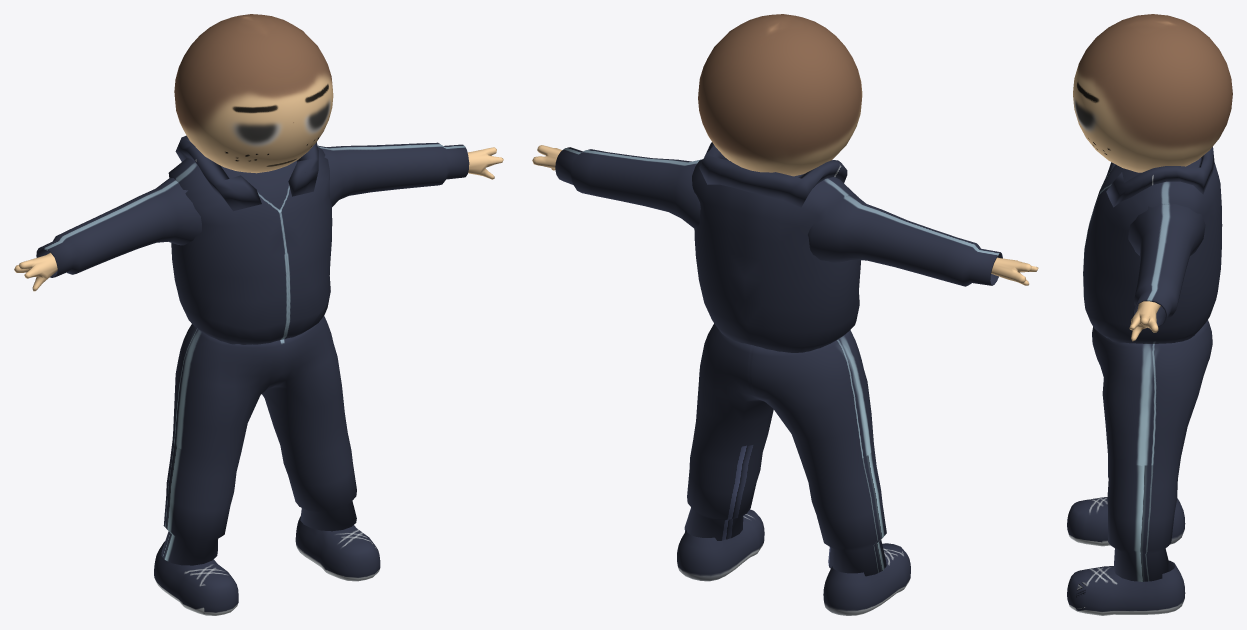
File: character_sportswear.fbx
3 views of the same model, side by side, from view 1: azimuth 30°, elevation 25°; view 2: azimuth 150°, elevation 25°; view 3: azimuth 270°, elevation 25° (orthographic). The views are drawn at different scales.
Parts seen in each view (by area): view 1: CLOTHES.017, HEAD.019, BODY.018; view 2: CLOTHES.017, HEAD.019, BODY.018; view 3: CLOTHES.017, HEAD.019, BODY.018.
Part boxes in pixels (x1,y1,x2,y2): CLOTHES.017: [36, 135, 469, 615]; HEAD.019: [174, 14, 333, 173]; BODY.018: [14, 147, 503, 291]; CLOTHES.017: [555, 142, 1002, 615]; HEAD.019: [698, 14, 862, 176]; BODY.018: [532, 145, 1038, 285]; CLOTHES.017: [1067, 147, 1222, 615]; HEAD.019: [1073, 14, 1232, 172]; BODY.018: [1129, 301, 1160, 341].
Size of the model in its own units: 377 by 414 by 113.
